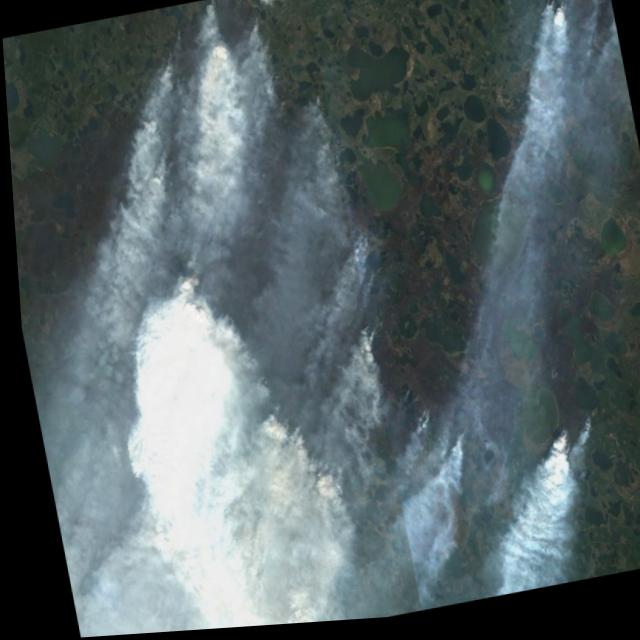fire: (236, 1, 287, 111), (514, 0, 615, 53), (543, 414, 598, 474), (294, 81, 335, 158), (342, 222, 379, 299), (392, 389, 431, 450), (351, 318, 382, 381), (152, 23, 190, 74), (431, 412, 464, 460), (199, 0, 221, 23)
